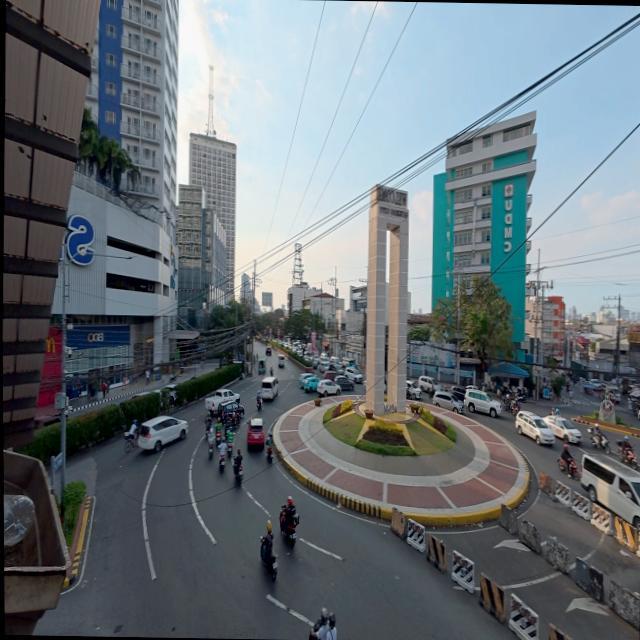car: (124, 414, 186, 454), (462, 388, 501, 416), (244, 416, 264, 450), (312, 378, 339, 396), (255, 379, 276, 401), (297, 374, 317, 392)
vans: (515, 413, 556, 445), (550, 416, 582, 444)
